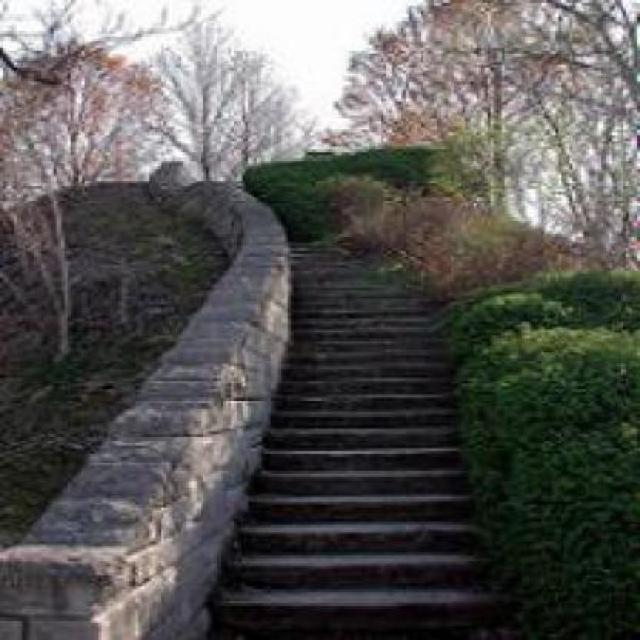stair: (240, 397, 468, 606)
